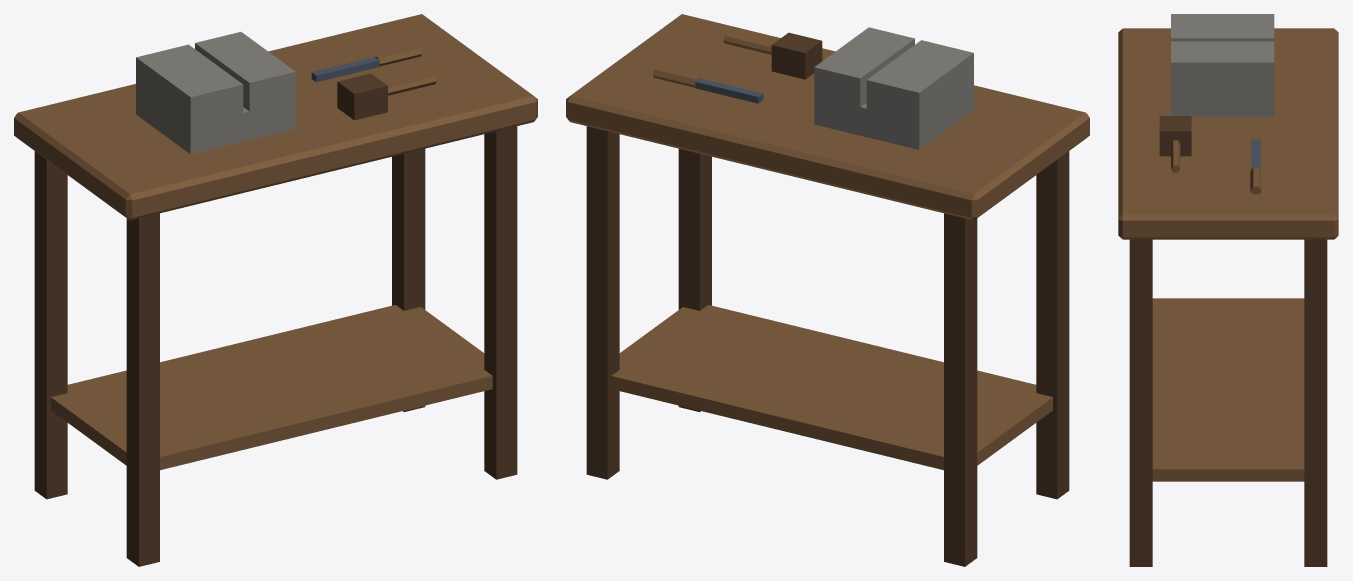
Rendered from stone_cutting_table.obj.
The picture shows the model from 3 angles, left to right: view 1: azimuth 30°, elevation 25°; view 2: azimuth 150°, elevation 25°; view 3: azimuth 270°, elevation 25°; orthographic projection. The views are drawn at different scales.
Parts seen in each view (by area): view 1: body; view 2: body; view 3: body.
Part boxes in pixels (box(x1,y1,x2,y2)): body: box(14, 14, 537, 566); body: box(566, 14, 1089, 566); body: box(1118, 14, 1338, 566).
Bounding box in the file's own units: 1.96 × 1.98 × 0.96.
